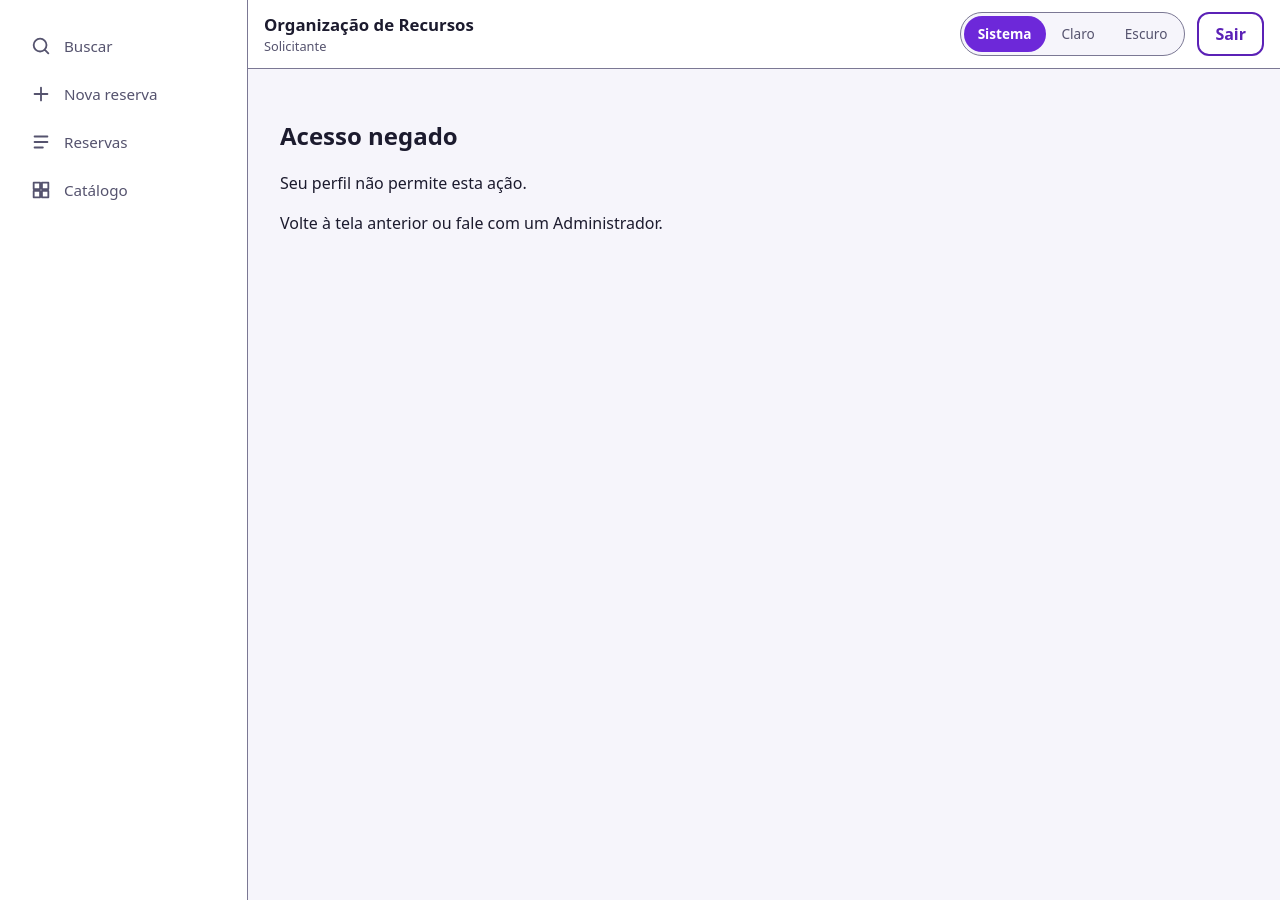
Test: Rotas › sair por vontade própria não mostra o aviso de sessão terminada
Step 1. Click the button "Sair" → [1231, 34], box [1197,12,1264,56]
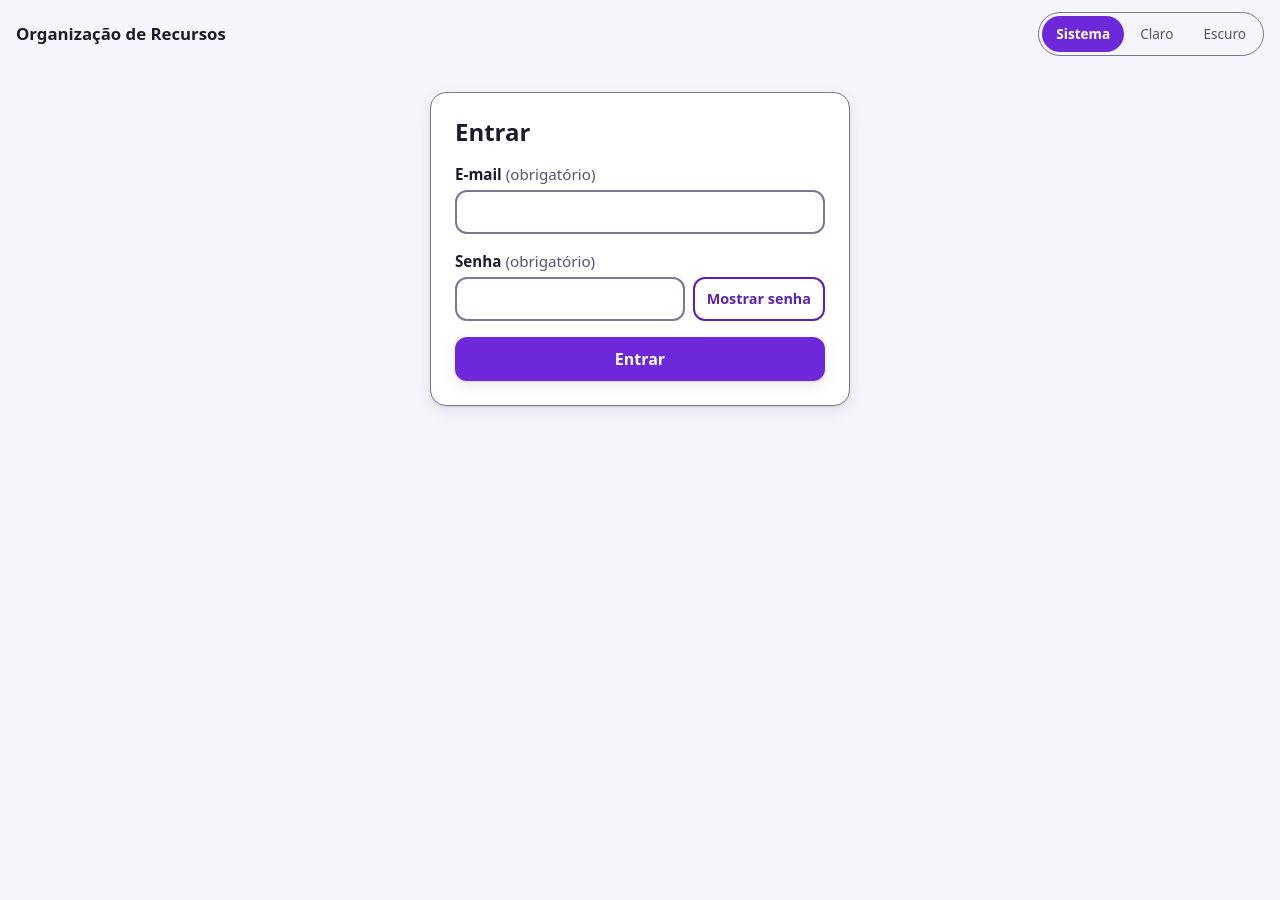
Now the form "Entrar" is shown, box [455,163,825,381]
